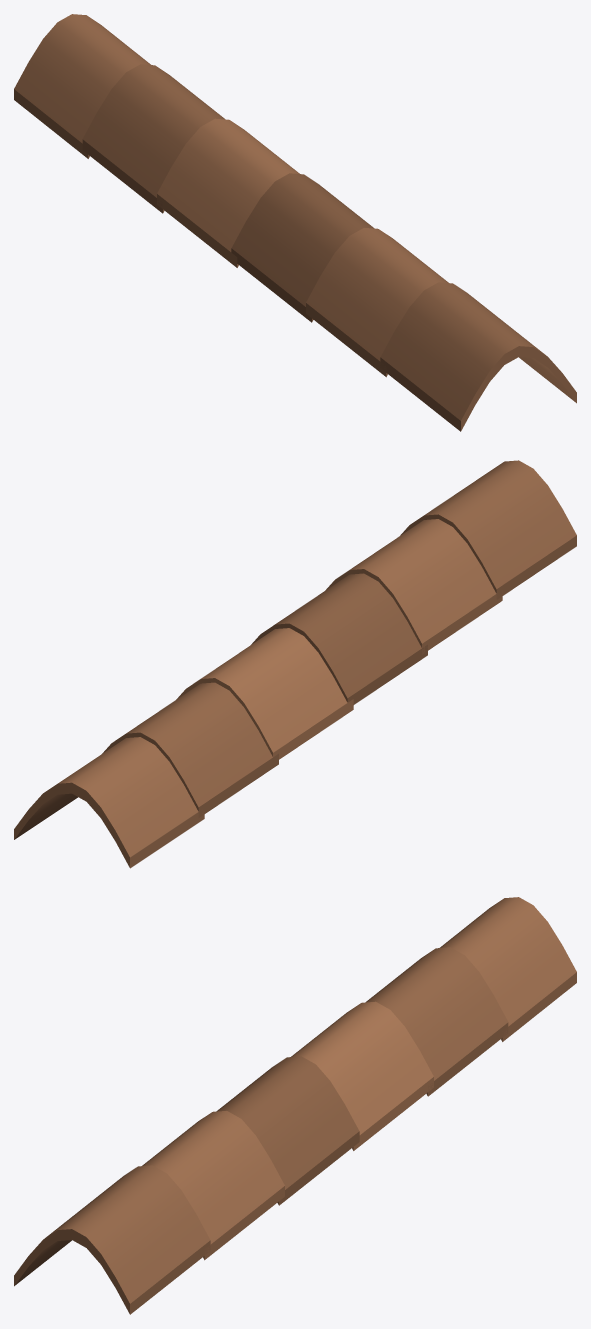
Rendered from roof_ridge_timber_2m.glb.
The picture shows the model from 3 angles, top to bottom: view 1: azimuth 30°, elevation 25°; view 2: azimuth 150°, elevation 25°; view 3: azimuth 330°, elevation 25°; orthographic projection.
Parts seen in each view (by area): view 1: roof_ridge_timber_2m; view 2: roof_ridge_timber_2m; view 3: roof_ridge_timber_2m.
Boxes of the visible parts, bbox=[...] form: roof_ridge_timber_2m: bbox=[14, 14, 576, 431]; roof_ridge_timber_2m: bbox=[14, 460, 576, 868]; roof_ridge_timber_2m: bbox=[14, 897, 576, 1314].
Size of the model in its own units: 0.3 by 0.189 by 2.
